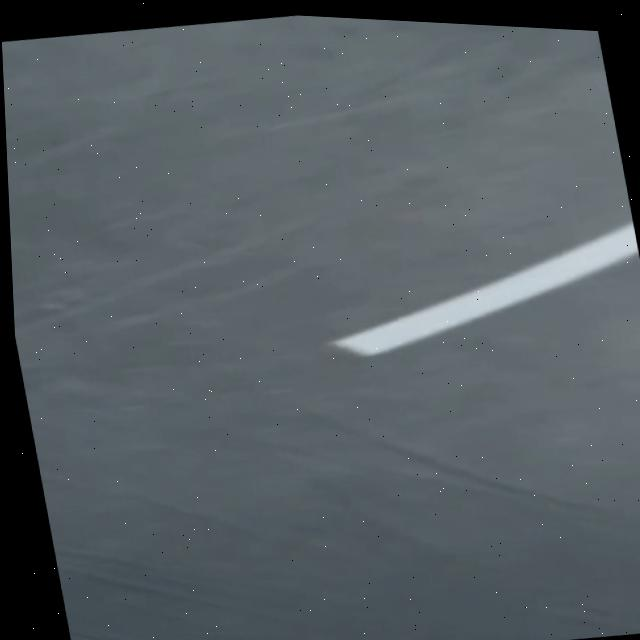center: (332, 220, 639, 355)
